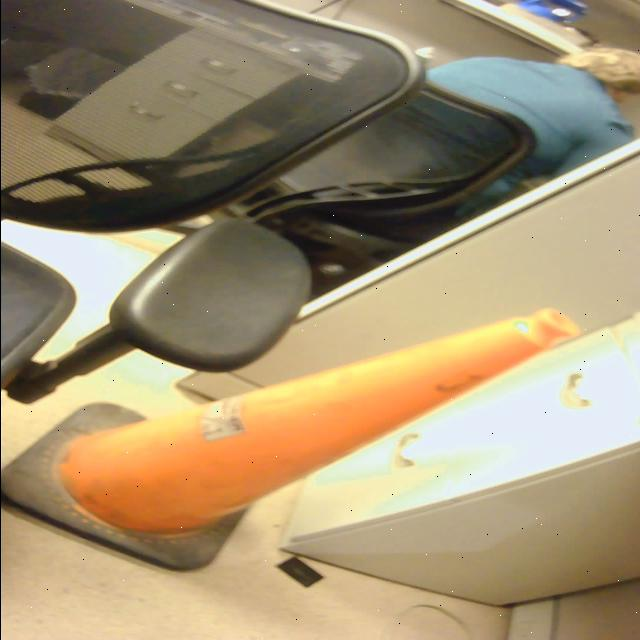traffic cone: (1, 305, 587, 579)
